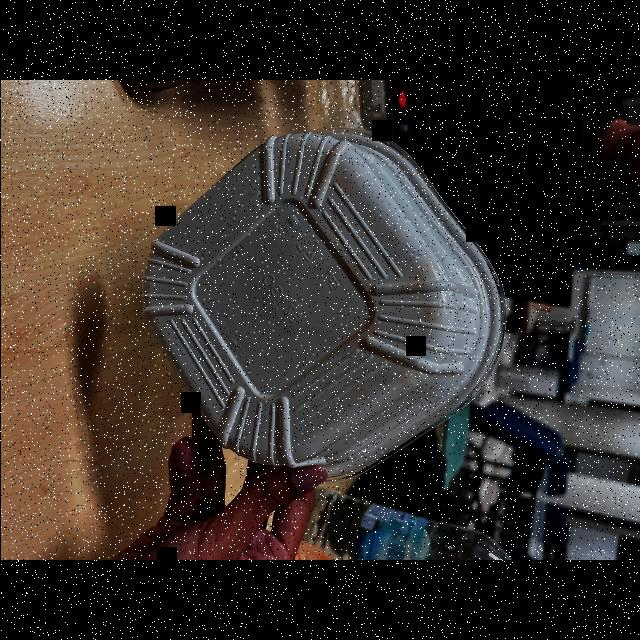plastic_box: (145, 122, 518, 488)
